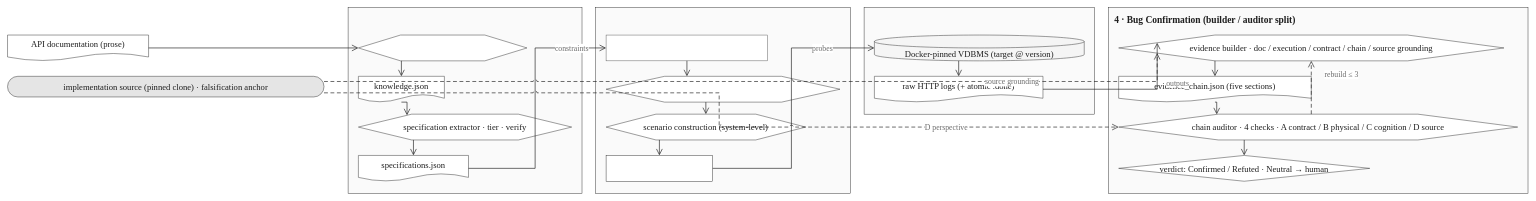
Image size: 1536x201. Some labels were removed from this diagram. Each missing label, with the box of its shape:
1 · Specification Extraction: (348, 7, 582, 193)
2 · Test Script Generation: (595, 7, 850, 193)
3 · Sandboxed Execution: (864, 7, 1095, 114)
5 generation gates: (606, 155, 713, 181)
attack agents · boundary / state / semantic: (606, 76, 840, 102)
knowledge extractor · Crawl4AI: (358, 35, 527, 61)
strategy registry (pre-bound): (606, 35, 768, 61)
